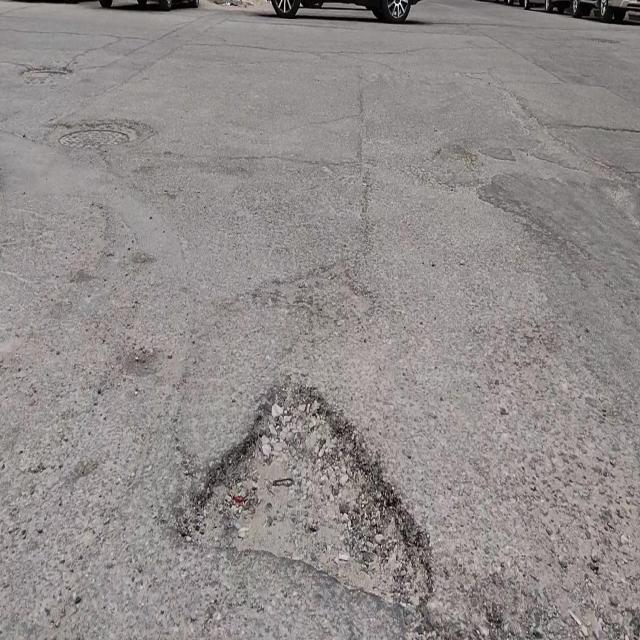Pothole: (176, 382, 436, 611)
